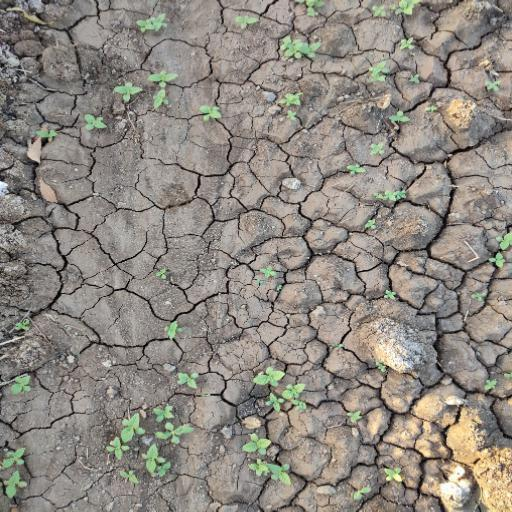crop: (350, 5, 432, 96), (263, 33, 314, 119), (243, 352, 312, 415), (343, 183, 423, 237), (233, 430, 298, 495), (345, 461, 415, 500), (149, 395, 195, 445), (101, 404, 144, 456), (1, 442, 34, 503), (145, 62, 182, 113), (66, 103, 112, 138), (137, 443, 173, 483), (124, 13, 179, 37), (5, 365, 41, 400), (102, 75, 145, 99)
